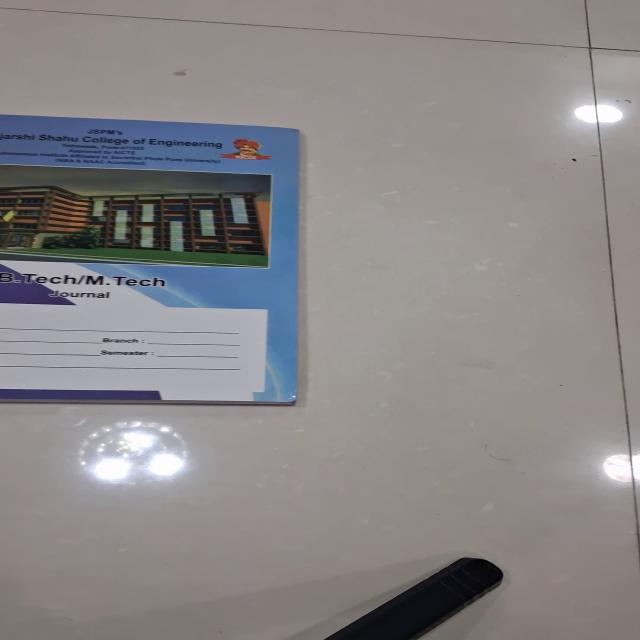paper: (1, 114, 300, 404)
